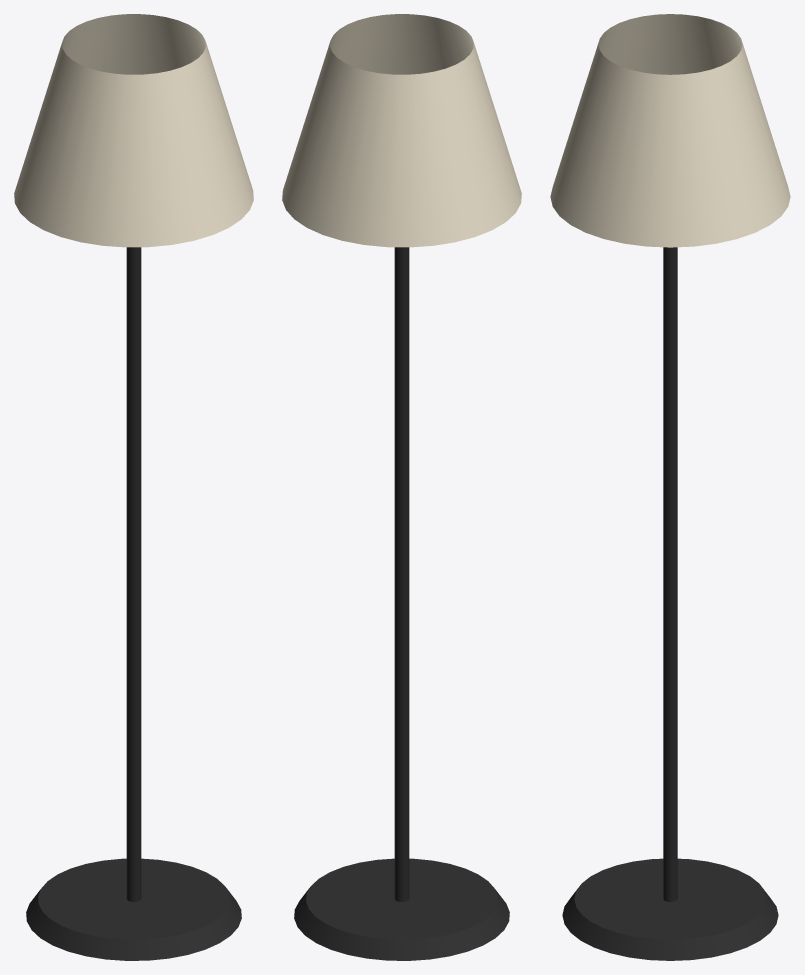
Rendered from lampara-pie.glb.
The picture shows the model from 3 angles, left to right: view 1: azimuth 30°, elevation 25°; view 2: azimuth 150°, elevation 25°; view 3: azimuth 270°, elevation 25°; orthographic projection.
Parts seen in each view (by area): view 1: Lampara; view 2: Lampara; view 3: Lampara.
Part boxes in pixels (<box>): Lampara: <box>14,14,253,960</box>; Lampara: <box>282,14,521,960</box>; Lampara: <box>550,14,790,960</box>.
Bounding box in the file's own units: 0.4 × 1.6 × 0.4.
